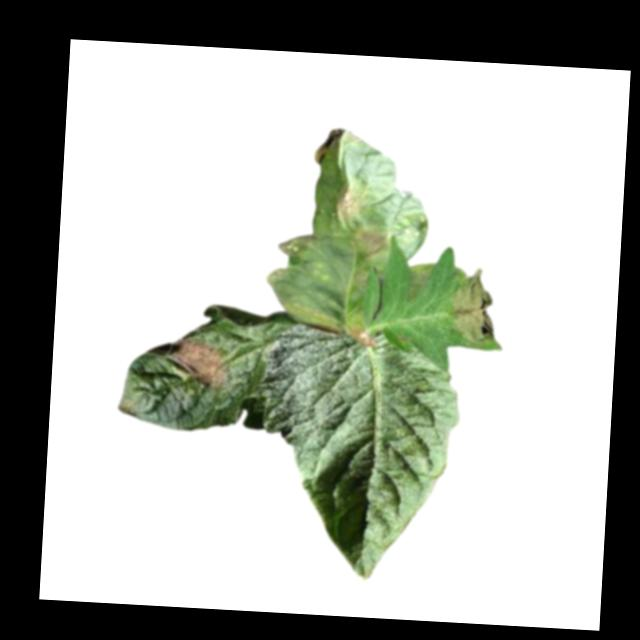Late_blight: (449, 266, 503, 350), (165, 331, 234, 390), (287, 304, 345, 337), (402, 260, 439, 307), (347, 227, 394, 263), (333, 182, 370, 224), (314, 126, 347, 169), (276, 233, 324, 261), (349, 324, 382, 348)
healthy: (252, 323, 466, 585)
